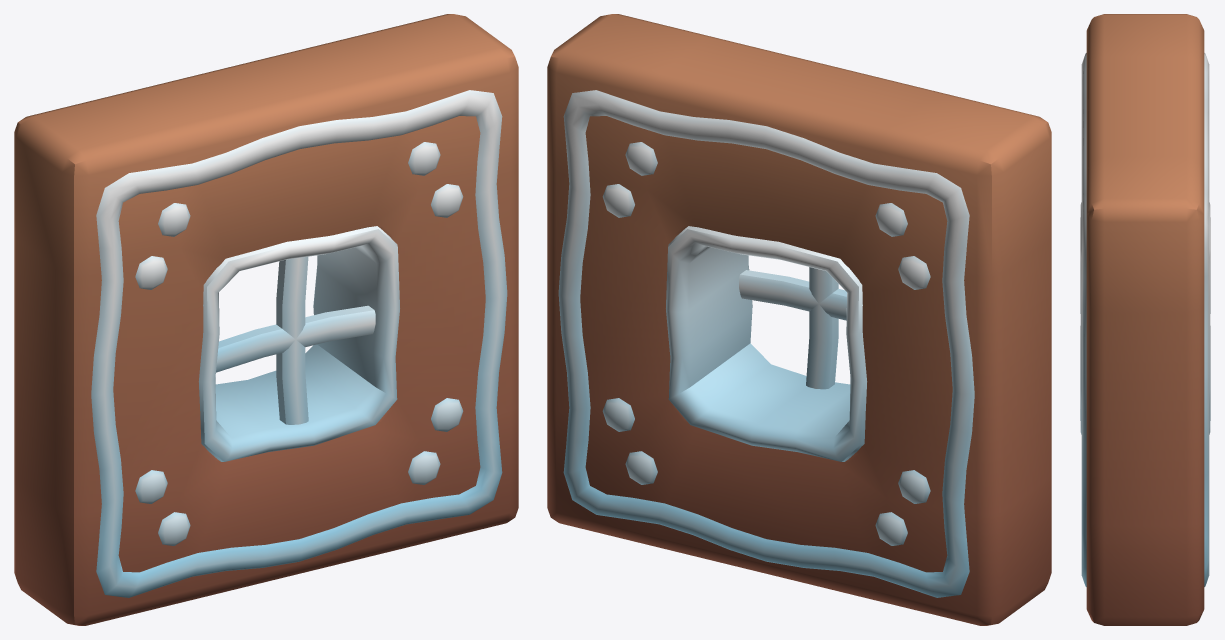
Rendered from wall_gingerbread_window_A.fbx.
The picture shows the model from 3 angles, left to right: view 1: azimuth 30°, elevation 25°; view 2: azimuth 150°, elevation 25°; view 3: azimuth 270°, elevation 25°; orthographic projection. The views are drawn at different scales.
Visible parts, largest first — view 1: wall_gingerbread_window_A; view 2: wall_gingerbread_window_A; view 3: wall_gingerbread_window_A.
Boxes of the visible parts, <box> form: wall_gingerbread_window_A: <box>14,14,518,625</box>; wall_gingerbread_window_A: <box>547,14,1051,625</box>; wall_gingerbread_window_A: <box>1080,14,1210,625</box>.
Bounding box in the file's own units: 4 × 4 × 1.11.
